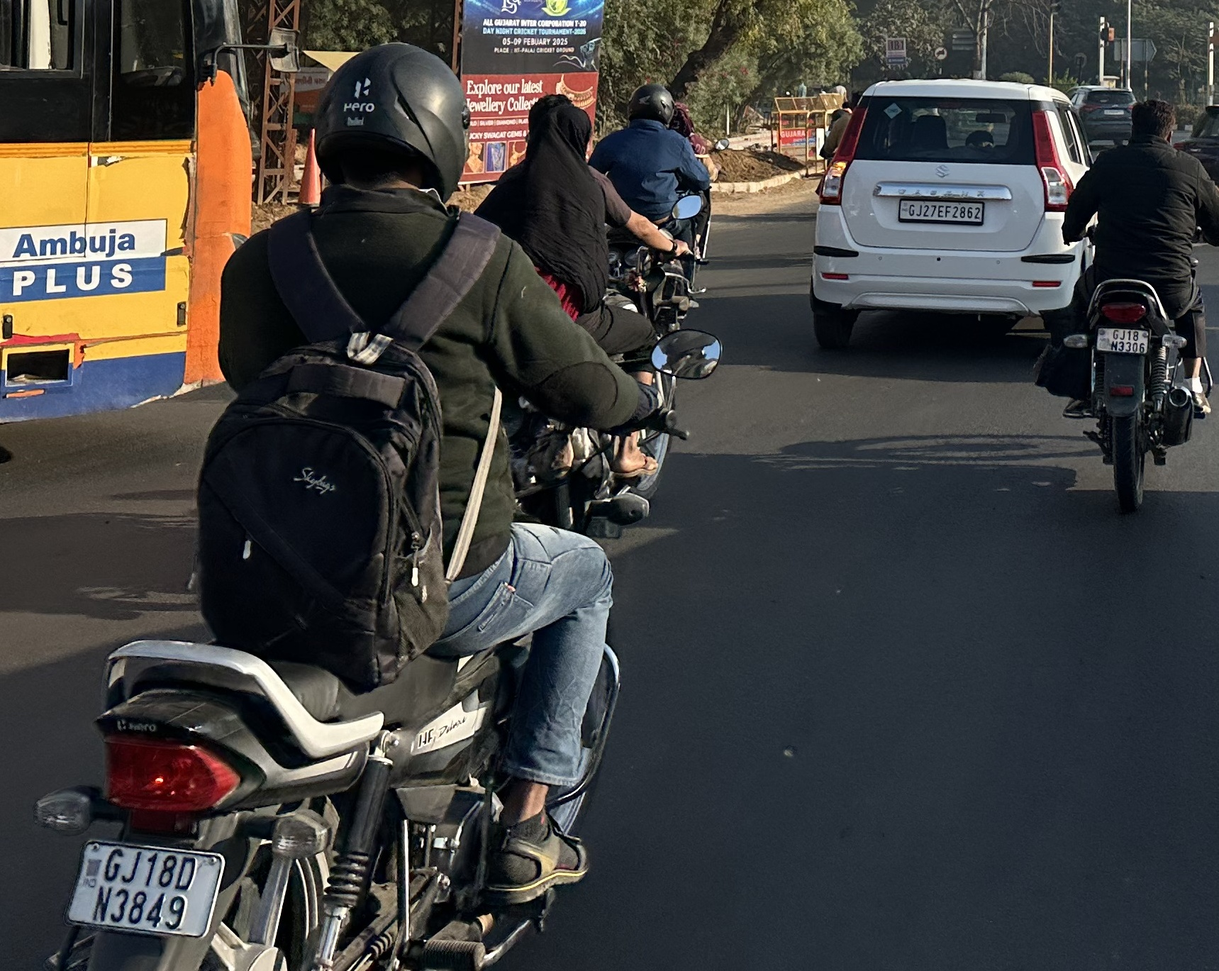BikeWithRider: (26, 31, 731, 970), (1022, 84, 1218, 524), (582, 72, 722, 344)
Helmet: (298, 32, 483, 223), (620, 74, 684, 135)
NoHelmet: (514, 86, 600, 174), (1115, 89, 1185, 158)
